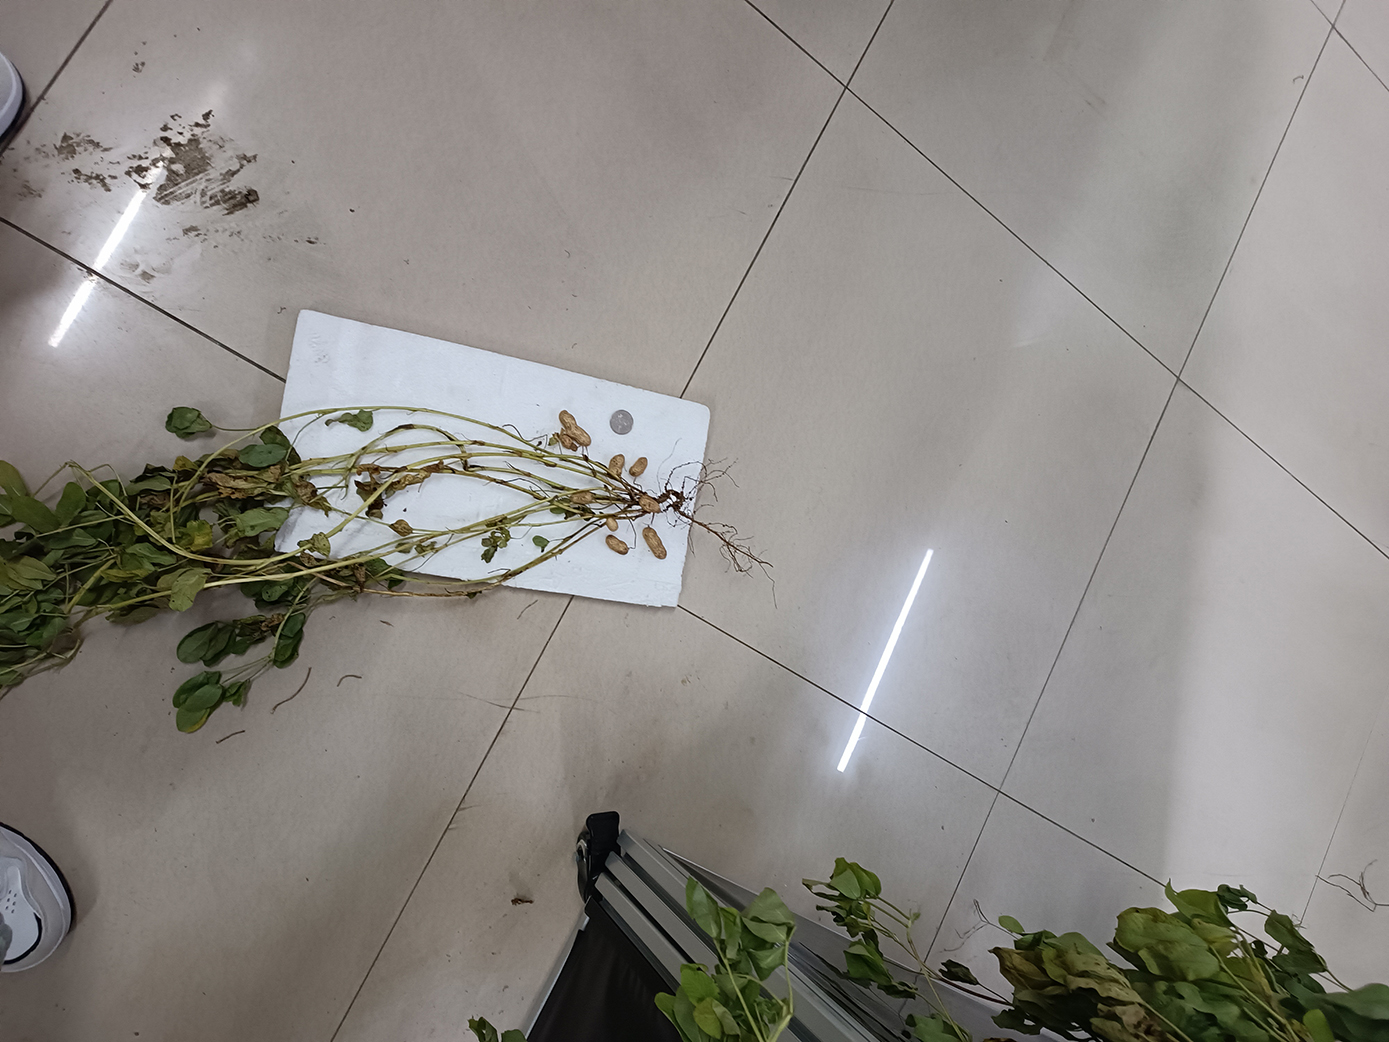h: (560, 409, 591, 445), (643, 526, 668, 560), (605, 533, 630, 555), (638, 494, 662, 514), (607, 452, 625, 478), (629, 456, 648, 476), (570, 490, 595, 505), (606, 516, 620, 531)
l: (558, 435, 579, 452)
